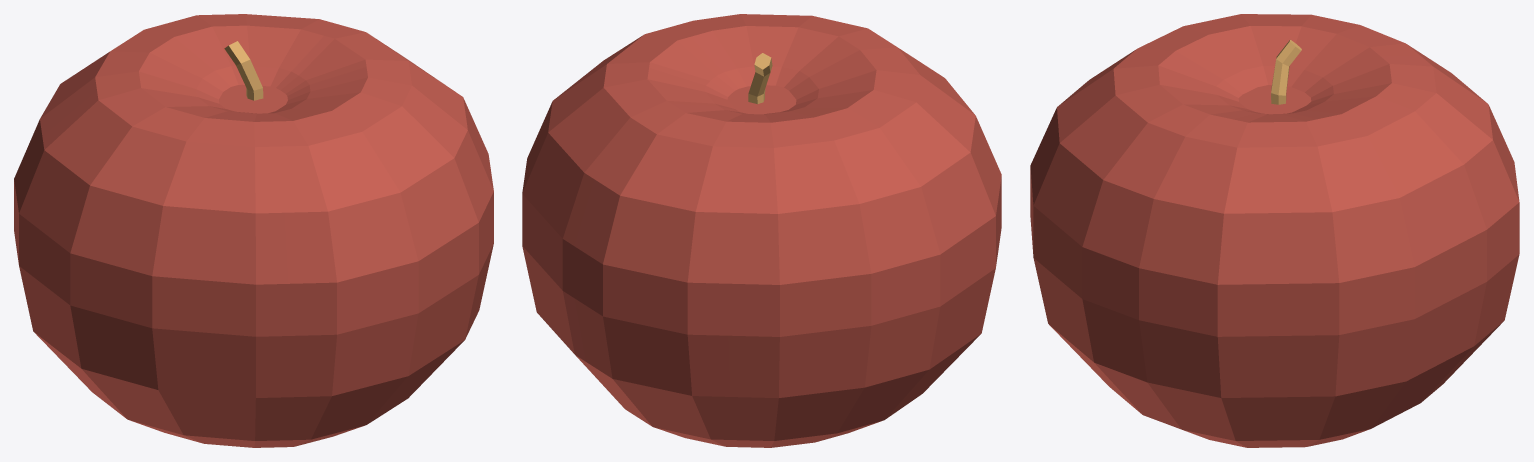
Rendered from PolyApple.fbx.
3 renders of one model, left to right at view 1: azimuth 30°, elevation 25°; view 2: azimuth 150°, elevation 25°; view 3: azimuth 270°, elevation 25°, orthographic.
Parts seen in each view (by area): view 1: Plane.001, Cube; view 2: Plane.001, Cube; view 3: Plane.001, Cube.
Boxes of the visible parts, box(x1,y1,x2,y2) form: Plane.001: box(14, 14, 493, 447); Cube: box(224, 41, 263, 100); Plane.001: box(522, 14, 1001, 447); Cube: box(748, 53, 772, 104); Plane.001: box(1030, 14, 1519, 447); Cube: box(1271, 39, 1301, 104).
Size of the model in its own units: 1256 by 1057 by 1282.
